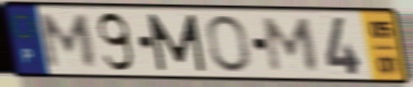4: (323, 13, 364, 78)
9: (94, 10, 136, 73)
M: (144, 12, 209, 74), (262, 16, 322, 74), (40, 12, 100, 70)
O: (204, 13, 253, 74)
